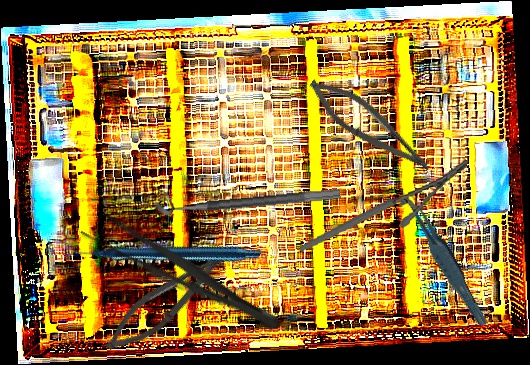Dressing Forceps: (76, 204, 289, 342)
Fixation Ring: (153, 172, 341, 217)
Handpiece: (65, 154, 264, 345)
Micro Scissor: (97, 236, 234, 364), (299, 70, 442, 180)
Needle Holder: (291, 159, 476, 252)
Tissue Forceps: (401, 183, 489, 333)
